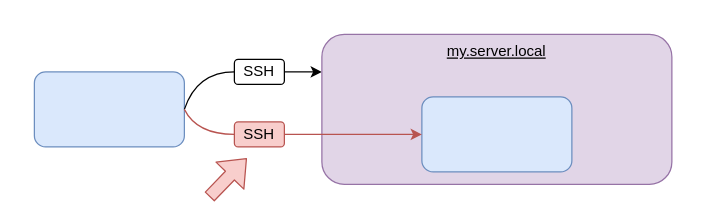
The diagram is 718 pixels wide and 223 high, and some of its shapes have lost their labels. Each missing label, with the centre of its shape:
"Docker container" belongs at point 496,134.
"VSCode" belongs at point 108,109.
